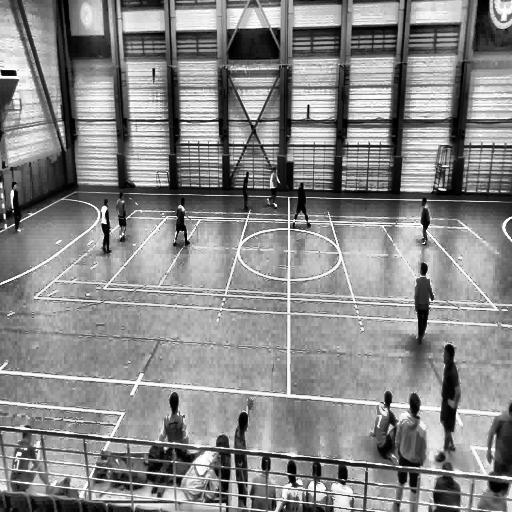ball: (272, 201, 278, 211)
player: (390, 392, 426, 510), (9, 426, 57, 493), (437, 343, 461, 463), (487, 398, 512, 494), (369, 390, 400, 467), (233, 402, 252, 504), (413, 261, 434, 345), (160, 392, 188, 454), (250, 453, 277, 512), (276, 456, 304, 512), (428, 463, 460, 512), (475, 472, 507, 512), (329, 463, 354, 512), (305, 462, 327, 512), (291, 180, 311, 228), (174, 197, 190, 247), (99, 198, 112, 256), (10, 179, 23, 233), (420, 194, 430, 246), (268, 168, 280, 210), (117, 192, 127, 242), (242, 169, 250, 211)
